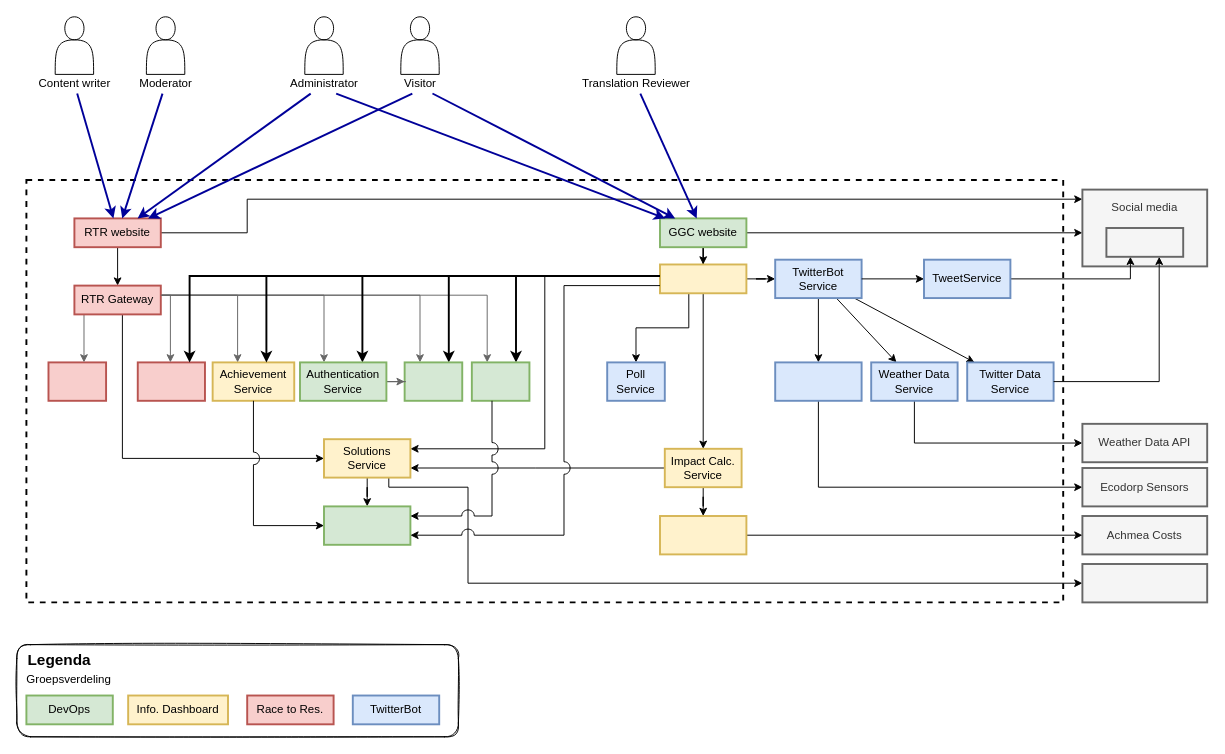
The diagram is 1225 pixels wide and 754 high, and some of its shapes have lost their labels. Each missing label, with the centre of its shape:
"Achmea Data Service" goes at pixel 703 535.
"Blog Service" goes at pixel 77 381.
"Comment Service" goes at pixel 170 381.
"Deepl translation API" goes at pixel 1144 583.
"Ecodorp Data Service" goes at pixel 818 381.
"Follower Service" goes at pixel 500 381.
"GGC Gateway" goes at pixel 703 278.
"Notification Service" goes at pixel 367 525.
"Twitter API" goes at pixel 1144 242.
"User Service" goes at pixel 433 381.
